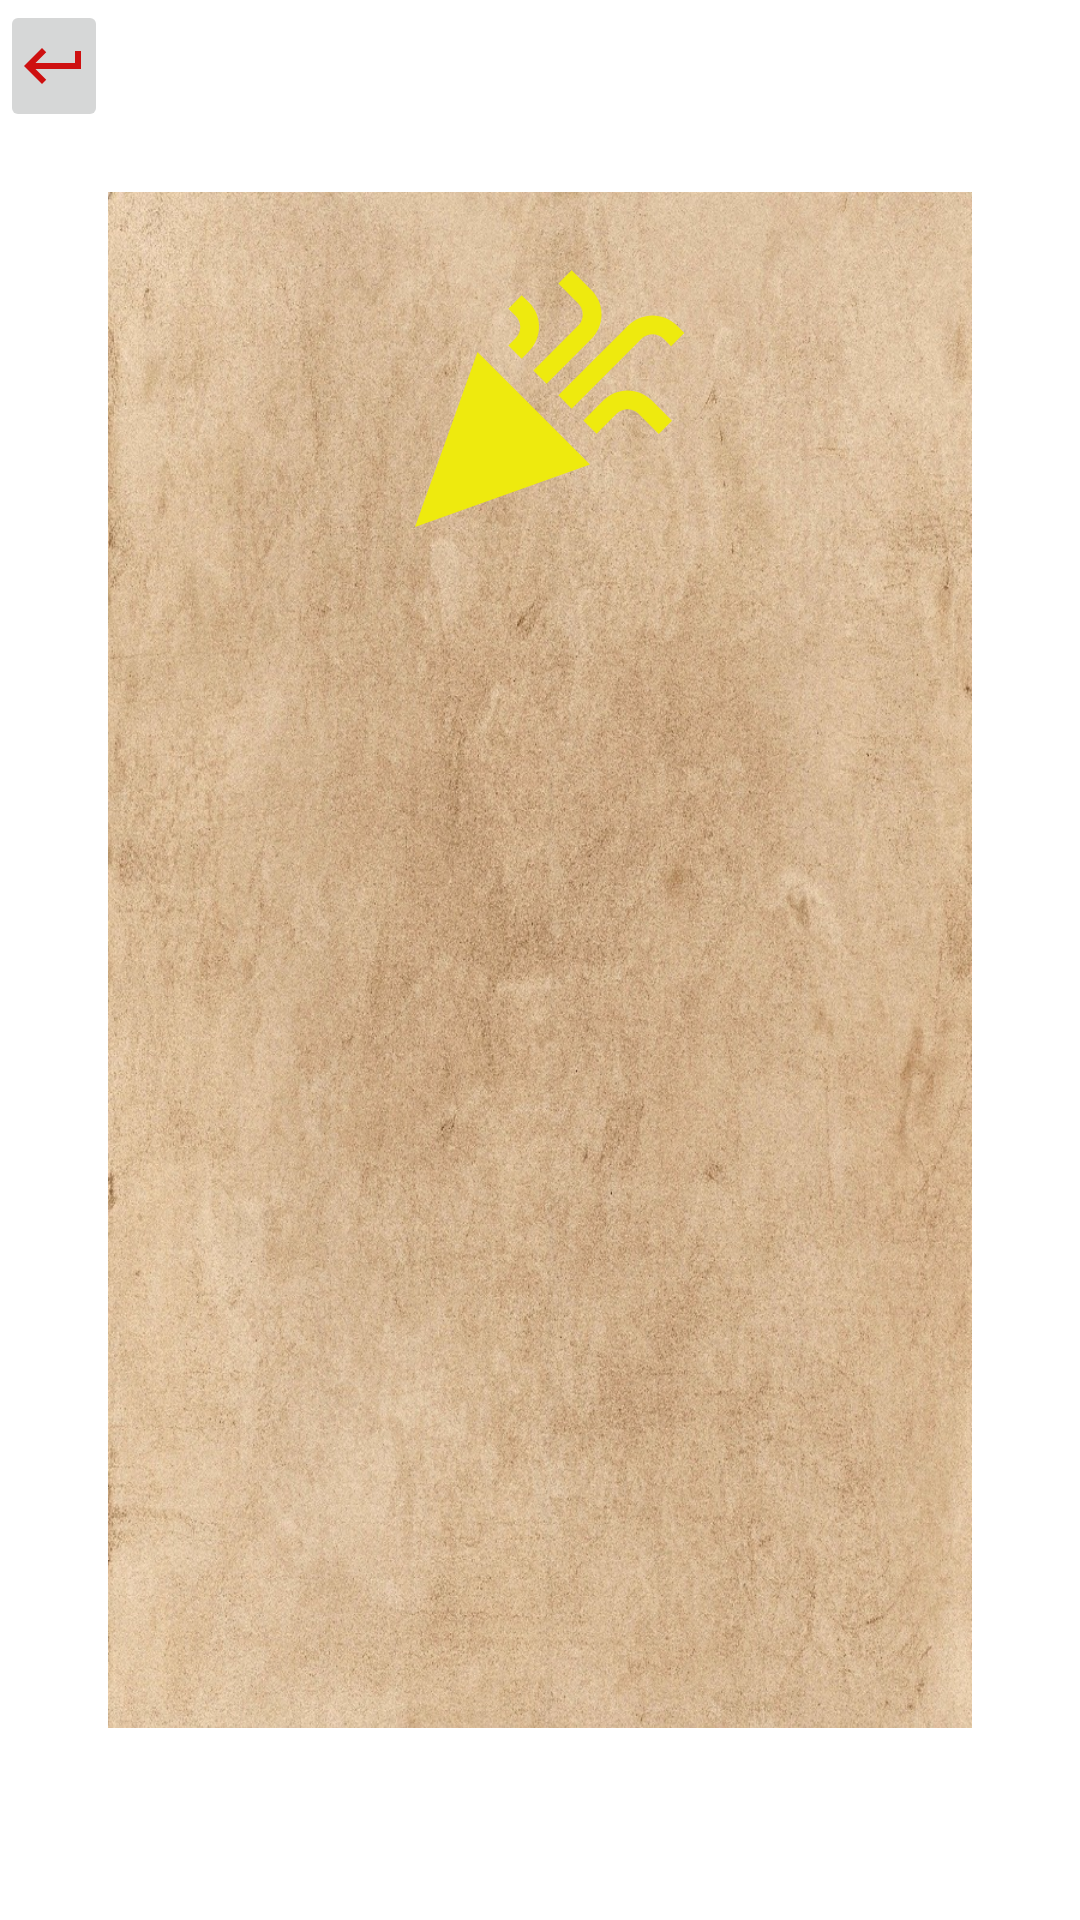

Locate icon controls on the screen. Image size 1080 × 1920, boxes as Rect(x1, y1, x2, y2).
congrats: Rect(390, 252, 690, 552)
return: Rect(12, 18, 96, 114)
